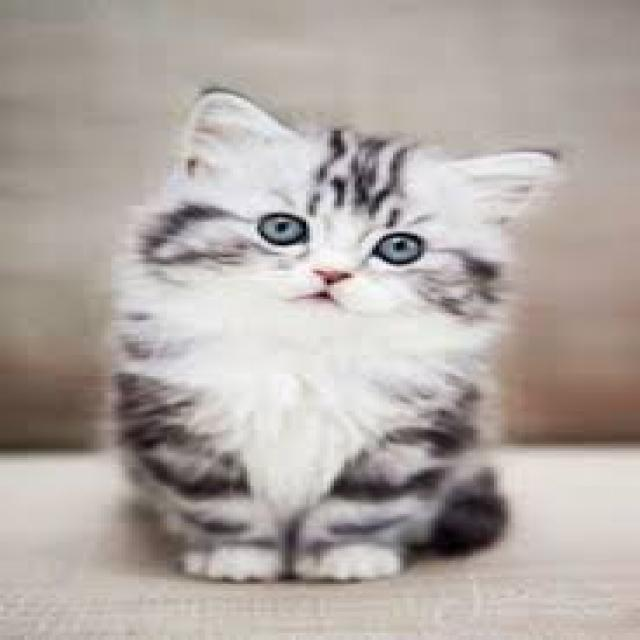Cat: (90, 81, 572, 591)
